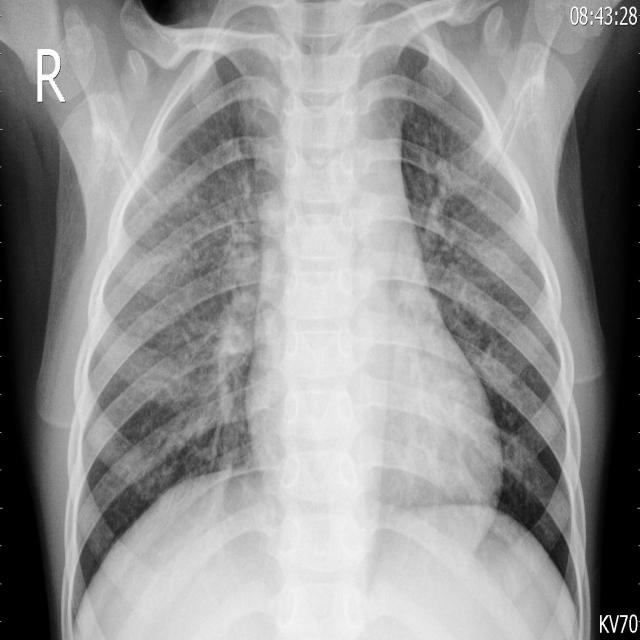low-pneumonia: (427, 173, 528, 392), (188, 197, 271, 431)
